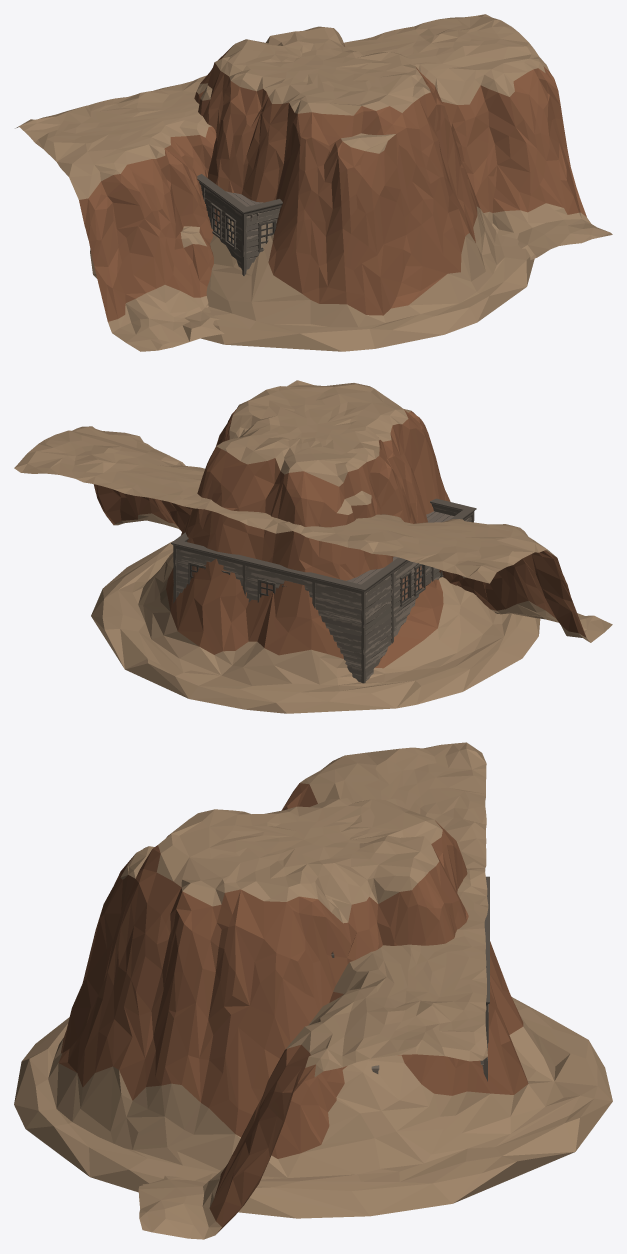
The model's file is western.glb.
3 renders of one model, top to bottom at view 1: azimuth 30°, elevation 25°; view 2: azimuth 150°, elevation 25°; view 3: azimuth 270°, elevation 25°, orthographic. The views are drawn at different scales.
Visible parts, largest first — view 1: cliff_cap, cliff_wall, saloon; view 2: cliff_cap, cliff_wall, saloon; view 3: cliff_cap, cliff_wall, saloon.
Part boxes in pixels (box(x1,y1,x2,y2)): cliff_cap: box(90, 26, 534, 351); cliff_wall: box(15, 14, 612, 351); saloon: box(197, 174, 282, 275); cliff_cap: box(91, 380, 540, 713); cliff_wall: box(14, 426, 612, 642); saloon: box(171, 498, 476, 683); cliff_cap: box(14, 798, 612, 1218); cliff_wall: box(138, 742, 488, 1239); saloon: box(371, 876, 489, 1081).
Size of the model in its own units: 34.4 by 13.44 by 28.19.
Materials: 2 (2 with a texture image).
